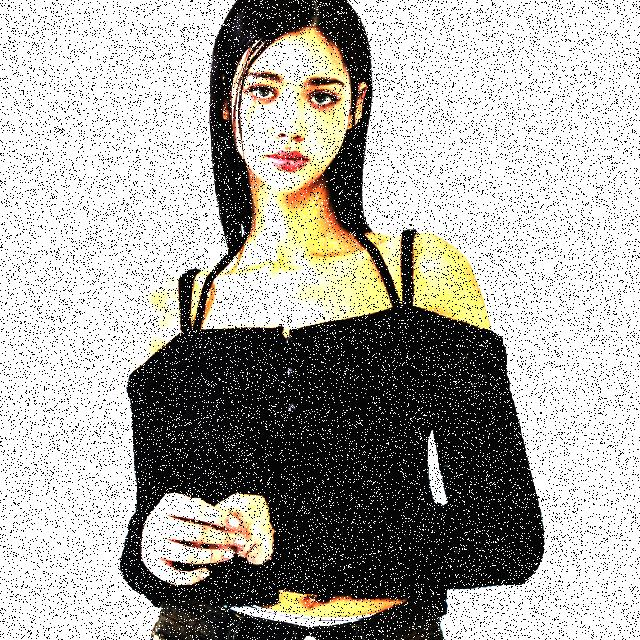dress: (119, 227, 539, 597)
